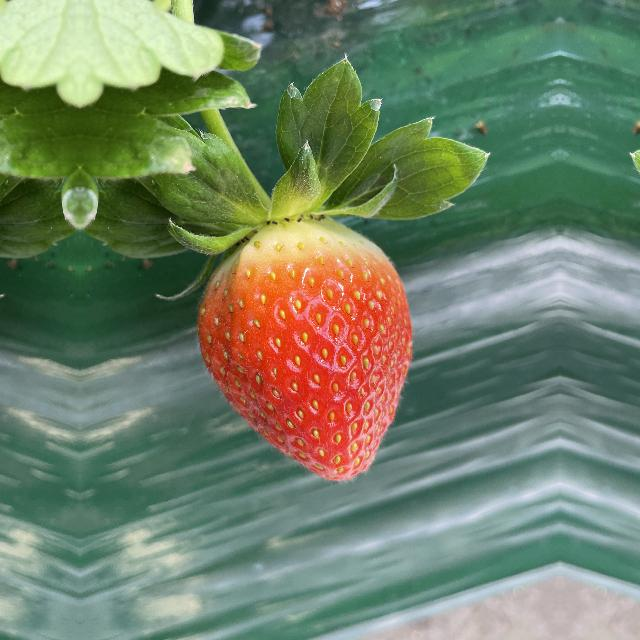Health_100: (194, 208, 420, 484)
